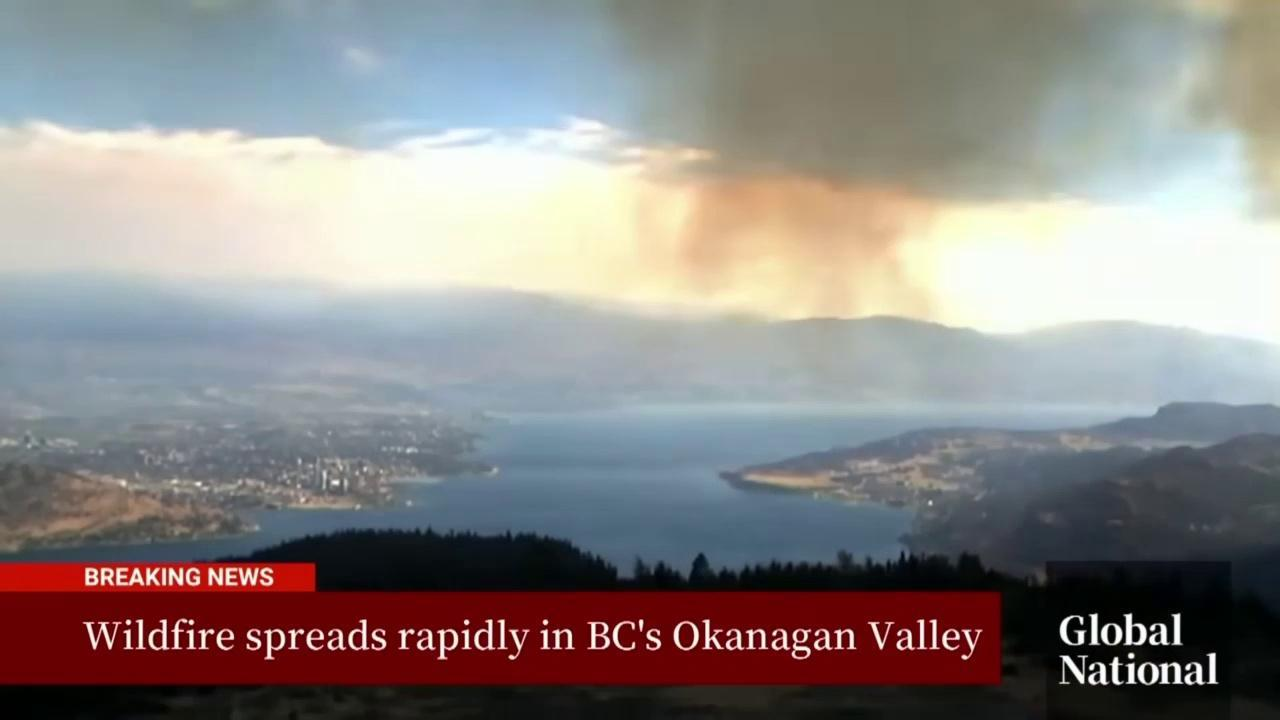smoke: (606, 0, 1280, 382)
